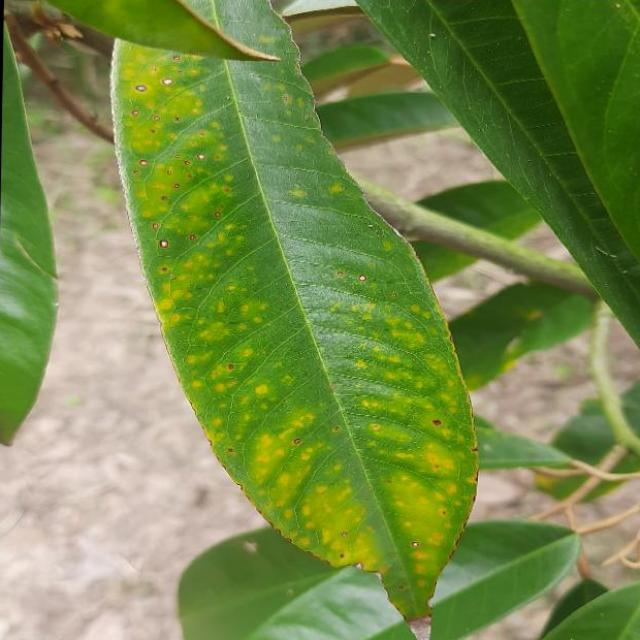Leaf Spot: (84, 0, 498, 640)
